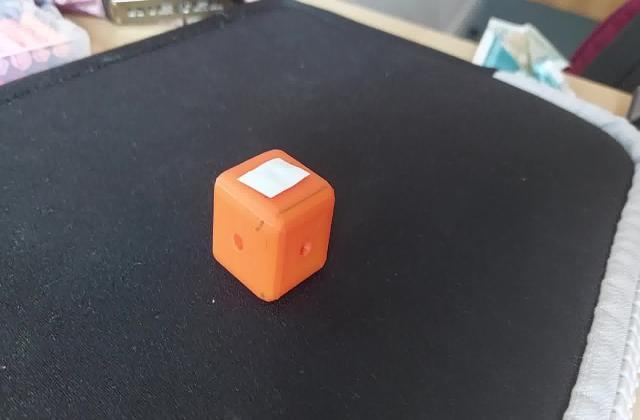cube: (208, 144, 338, 308)
white: (239, 165, 302, 203)
